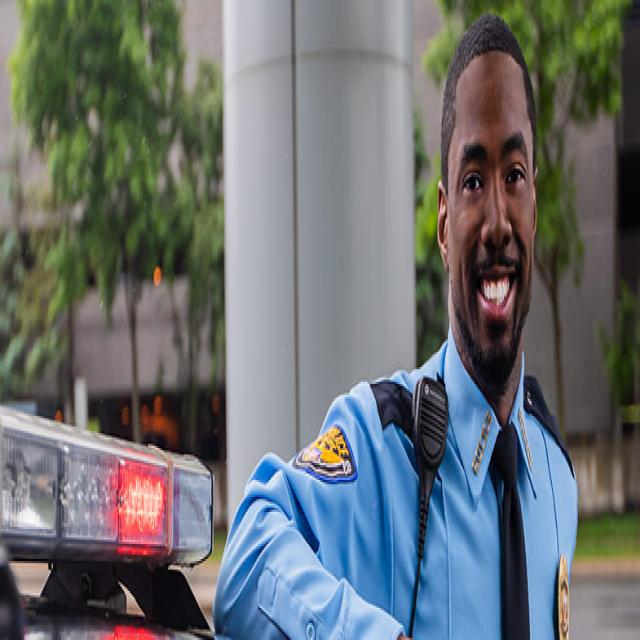police: (241, 0, 589, 640)
